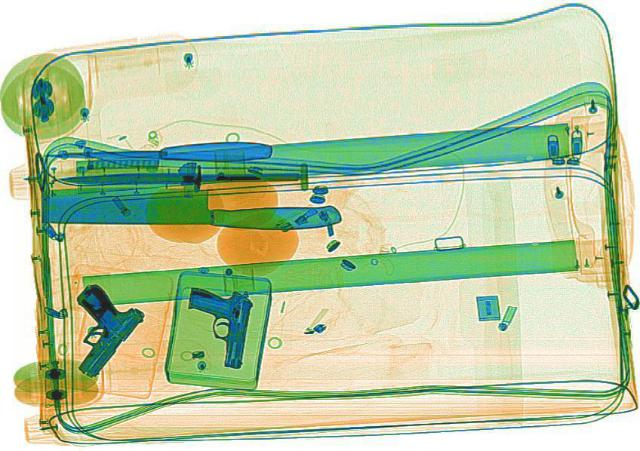Gun: (26, 279, 156, 377), (176, 284, 254, 368)
Knife: (38, 185, 340, 228), (45, 139, 272, 162), (58, 170, 300, 183)
